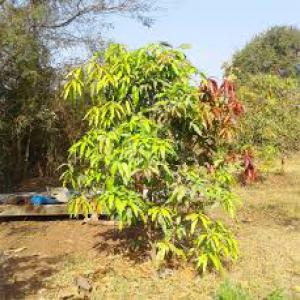Tree: (57, 40, 248, 270)
